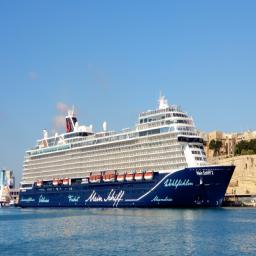cruises: (16, 95, 238, 215)
